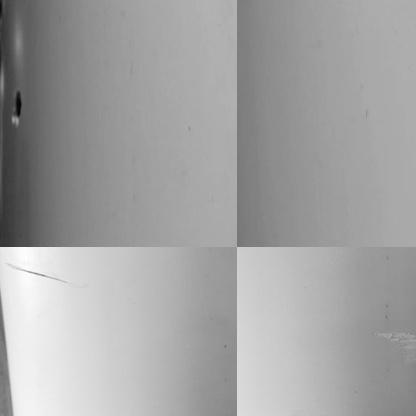kongdong: (8, 88, 28, 130)
sunshang: (3, 259, 76, 285), (373, 325, 416, 355)
